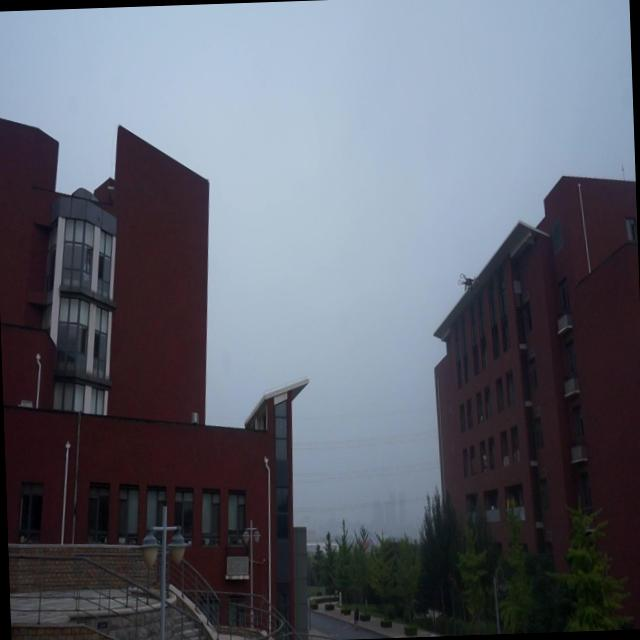drone: (455, 269, 482, 293)
